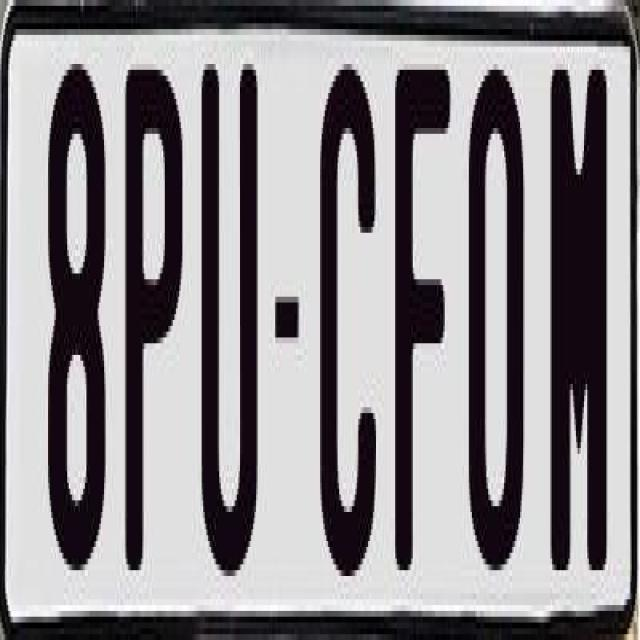0: (467, 58, 522, 594)
8: (45, 58, 112, 594)
C: (318, 46, 378, 576)
F: (393, 52, 452, 576)
M: (546, 64, 606, 570)
P: (120, 64, 184, 582)
U: (198, 46, 261, 582)
